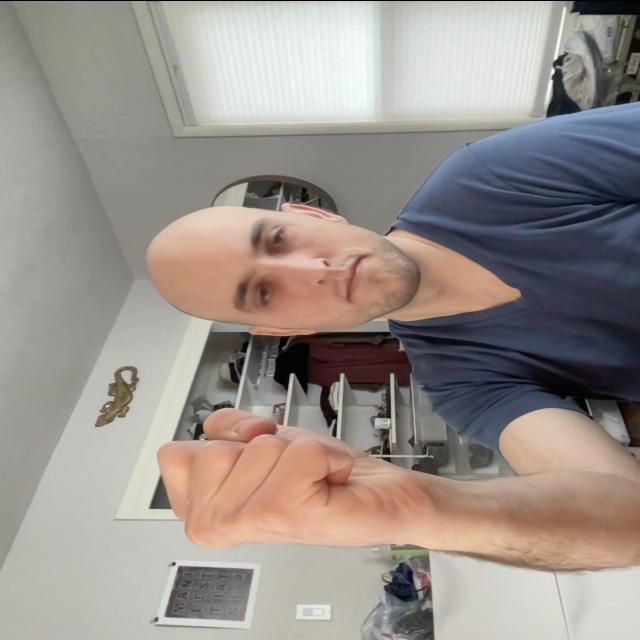Rock: (152, 405, 430, 551)
